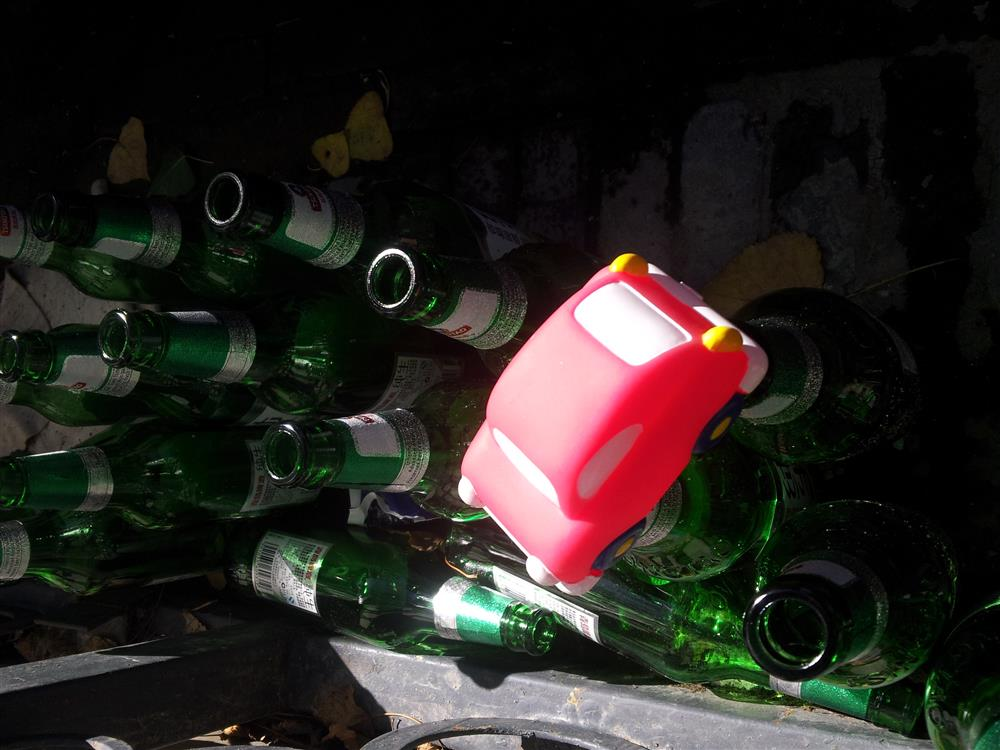red_car: (451, 245, 760, 576)
